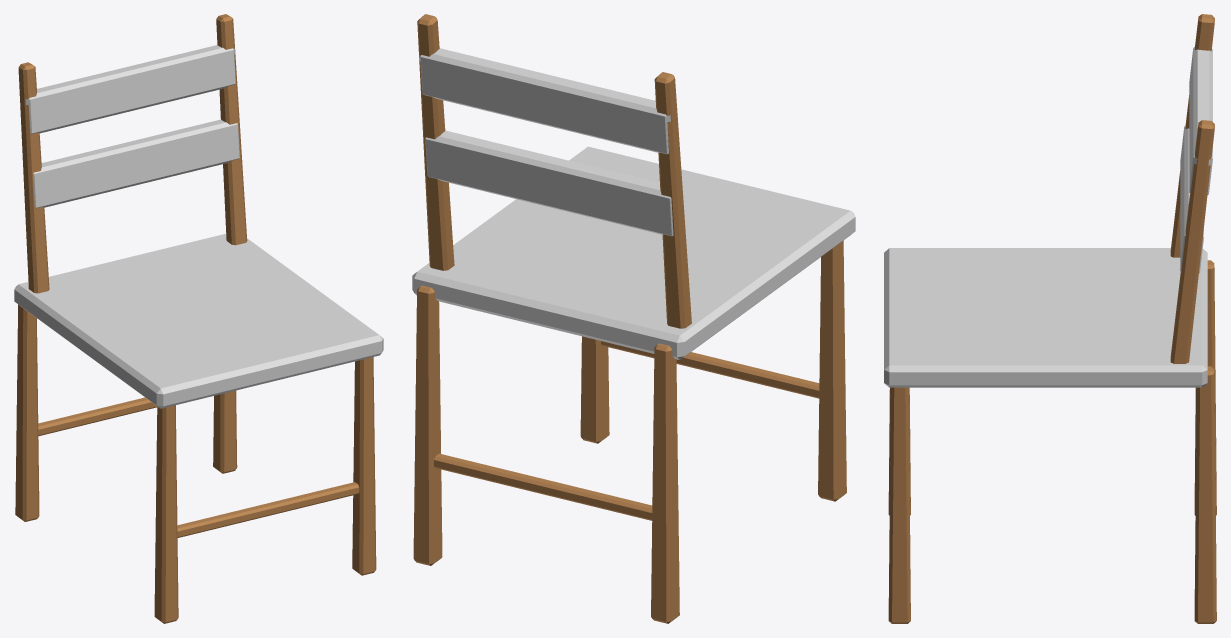
The model's file is chair-dining.glb.
3 renders of one model, left to right at view 1: azimuth 30°, elevation 25°; view 2: azimuth 150°, elevation 25°; view 3: azimuth 270°, elevation 25°, orthographic. The views are drawn at different scales.
Visible parts, largest first — view 1: chair-dining.tint, chair-dining.wood; view 2: chair-dining.tint, chair-dining.wood; view 3: chair-dining.tint, chair-dining.wood.
Boxes of the visible parts, bbox=[...] form: chair-dining.tint: bbox=[14, 45, 383, 408]; chair-dining.wood: bbox=[15, 14, 376, 623]; chair-dining.tint: bbox=[412, 48, 855, 359]; chair-dining.wood: bbox=[413, 14, 846, 623]; chair-dining.tint: bbox=[884, 47, 1212, 387]; chair-dining.wood: bbox=[888, 14, 1216, 623].
Bounding box in the file's own units: 0.45 × 0.86 × 0.52.
